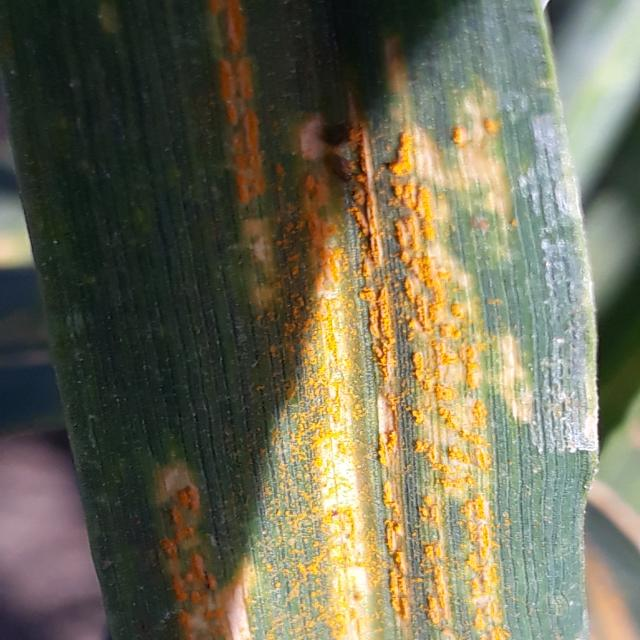yellow_rust: (82, 1, 572, 637)
